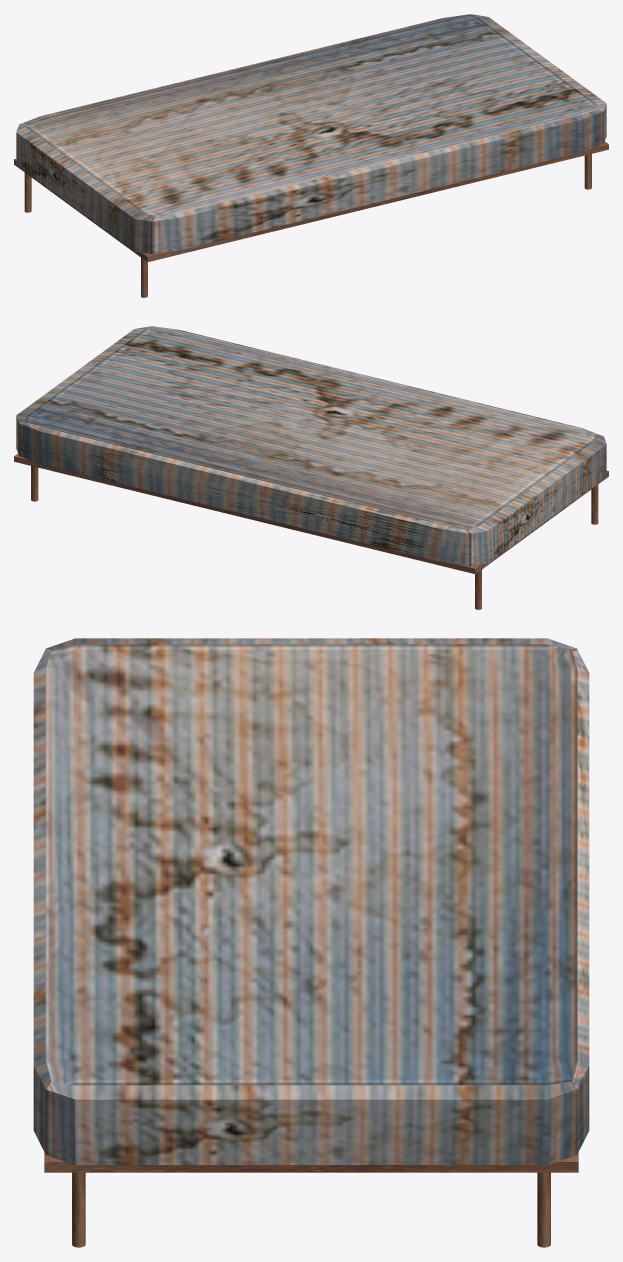
File: psx_bed.glb
The picture shows the model from 3 angles, top to bottom: view 1: azimuth 30°, elevation 25°; view 2: azimuth 150°, elevation 25°; view 3: azimuth 270°, elevation 25°; orthographic projection. The views are drawn at different scales.
Parts seen in each view (by area): view 1: Object_2, Object_3; view 2: Object_2, Object_3; view 3: Object_2, Object_3, Object_4, Object_5.
Part boxes in pixels (bbox=[...]): Object_2: bbox=[16, 14, 606, 254]; Object_3: bbox=[14, 141, 608, 262]; Object_2: bbox=[16, 326, 606, 566]; Object_3: bbox=[14, 453, 608, 574]; Object_2: bbox=[33, 638, 589, 1164]; Object_3: bbox=[44, 1152, 578, 1172]; Object_4: bbox=[72, 1172, 85, 1247]; Object_5: bbox=[537, 1172, 550, 1247].
Size of the model in its own units: 3.25 by 0.5516 by 1.66.
Materials: 6 (6 with a texture image).
